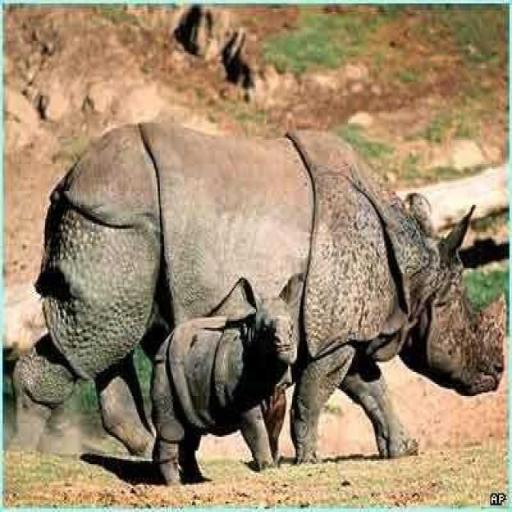Rhino: (12, 118, 504, 482)
